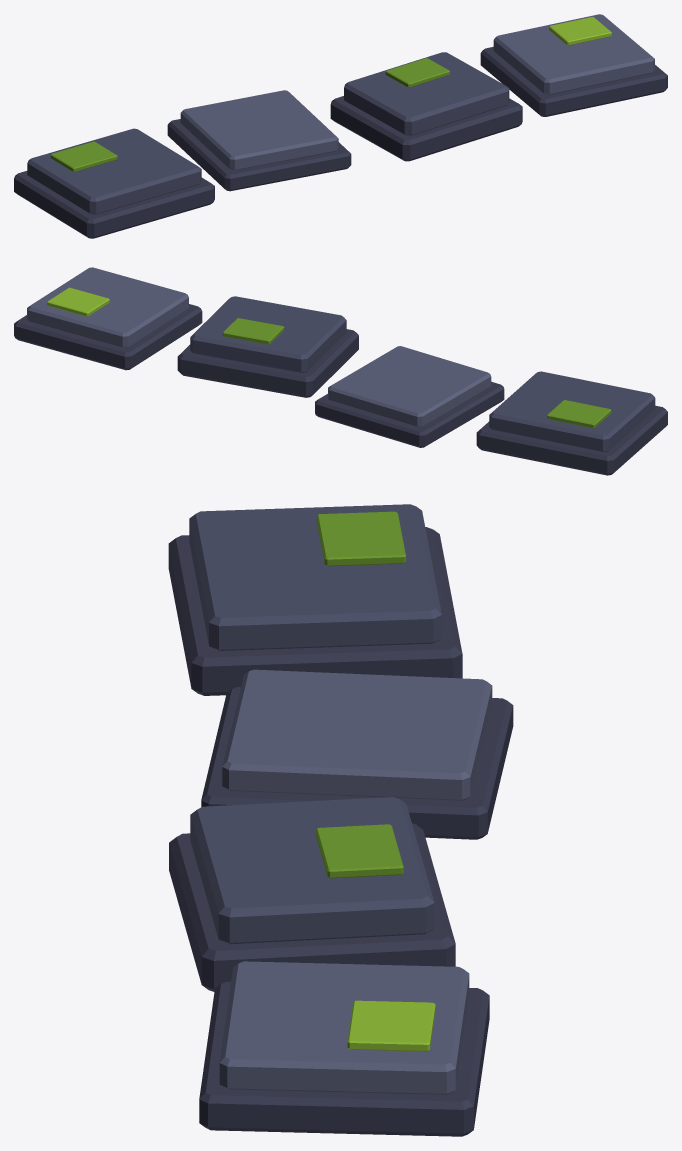
File: Bogheart_SteppingStones.glb
3 views of the same model, one above another, from view 1: azimuth 30°, elevation 25°; view 2: azimuth 150°, elevation 25°; view 3: azimuth 270°, elevation 25° (orthographic). The views are drawn at different scales.
Visible parts, largest first — view 1: SteppingStones_stone_2_top, SteppingStones_stone_1_top, SteppingStones_stone_3_top, SteppingStones_stone_4_top, SteppingStones_stone_3_base, SteppingStones_stone_1_base, SteppingStones_stone_4_base, SteppingStones_stone_2_base, SteppingStones_stone_1_moss, SteppingStones_stone_4_moss, SteppingStones_stone_3_moss; view 2: SteppingStones_stone_2_top, SteppingStones_stone_1_top, SteppingStones_stone_3_top, SteppingStones_stone_4_top, SteppingStones_stone_3_base, SteppingStones_stone_1_base, SteppingStones_stone_4_base, SteppingStones_stone_2_base, SteppingStones_stone_1_moss, SteppingStones_stone_4_moss, SteppingStones_stone_3_moss; view 3: SteppingStones_stone_2_top, SteppingStones_stone_1_top, SteppingStones_stone_3_top, SteppingStones_stone_4_top, SteppingStones_stone_4_base, SteppingStones_stone_1_base, SteppingStones_stone_3_base, SteppingStones_stone_2_base, SteppingStones_stone_1_moss, SteppingStones_stone_4_moss, SteppingStones_stone_3_moss.
Part boxes in pixels (x1=…): SteppingStones_stone_2_top: x1=180, y1=90, x2=338, y2=170; SteppingStones_stone_1_top: x1=27, y1=128, x2=201, y2=214; SteppingStones_stone_3_top: x1=344, y1=52, x2=509, y2=135; SteppingStones_stone_4_top: x1=493, y1=14, x2=654, y2=94; SteppingStones_stone_3_base: x1=330, y1=96, x2=522, y2=161; SteppingStones_stone_1_base: x1=14, y1=171, x2=214, y2=238; SteppingStones_stone_4_base: x1=480, y1=46, x2=667, y2=116; SteppingStones_stone_2_base: x1=167, y1=119, x2=351, y2=191; SteppingStones_stone_1_moss: x1=50, y1=141, x2=117, y2=172; SteppingStones_stone_4_moss: x1=549, y1=17, x2=611, y2=45; SteppingStones_stone_3_moss: x1=385, y1=58, x2=449, y2=87; SteppingStones_stone_2_top: x1=328, y1=346, x2=491, y2=427; SteppingStones_stone_1_top: x1=489, y1=371, x2=655, y2=451; SteppingStones_stone_3_top: x1=190, y1=296, x2=346, y2=372; SteppingStones_stone_4_top: x1=27, y1=267, x2=188, y2=347; SteppingStones_stone_3_base: x1=177, y1=329, x2=358, y2=397; SteppingStones_stone_1_base: x1=476, y1=405, x2=667, y2=475; SteppingStones_stone_4_base: x1=14, y1=304, x2=202, y2=370; SteppingStones_stone_2_base: x1=315, y1=381, x2=504, y2=447; SteppingStones_stone_1_moss: x1=547, y1=400, x2=611, y2=428; SteppingStones_stone_4_moss: x1=47, y1=287, x2=109, y2=316; SteppingStones_stone_3_moss: x1=222, y1=318, x2=284, y2=344; SteppingStones_stone_2_top: x1=222, y1=669, x2=492, y2=800; SteppingStones_stone_1_top: x1=189, y1=504, x2=441, y2=650; SteppingStones_stone_3_top: x1=190, y1=797, x2=434, y2=944; SteppingStones_stone_4_top: x1=219, y1=961, x2=469, y2=1094; SteppingStones_stone_4_base: x1=199, y1=981, x2=489, y2=1136; SteppingStones_stone_1_base: x1=168, y1=527, x2=462, y2=695; SteppingStones_stone_3_base: x1=169, y1=823, x2=455, y2=991; SteppingStones_stone_2_base: x1=201, y1=687, x2=513, y2=839; SteppingStones_stone_1_moss: x1=316, y1=511, x2=405, y2=566; SteppingStones_stone_4_moss: x1=347, y1=1000, x2=435, y2=1051; SteppingStones_stone_3_moss: x1=315, y1=824, x2=403, y2=878.
Bounding box in the file's own units: 4.27 × 0.29 × 1.08.
